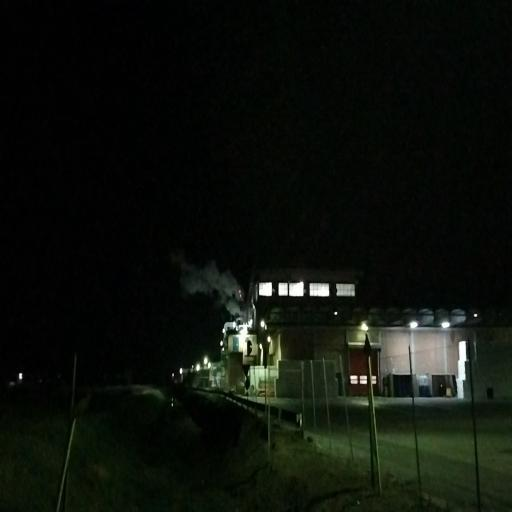leakage: (174, 232, 258, 327)
